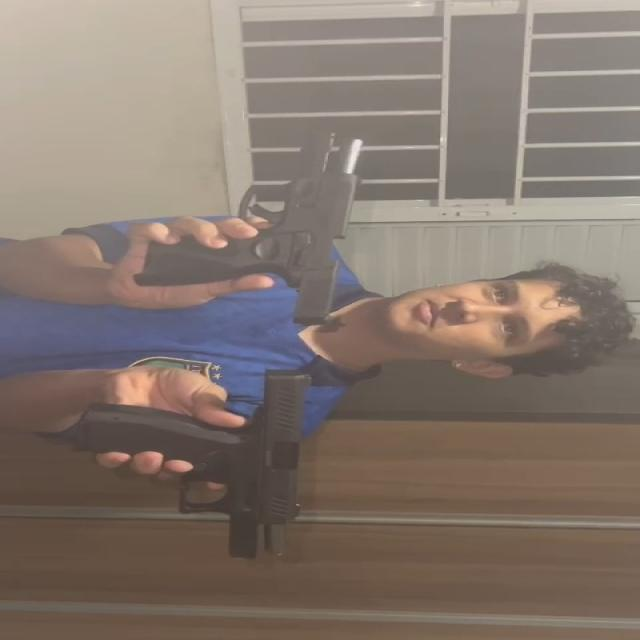gun: (67, 371, 316, 564), (130, 133, 368, 331)
